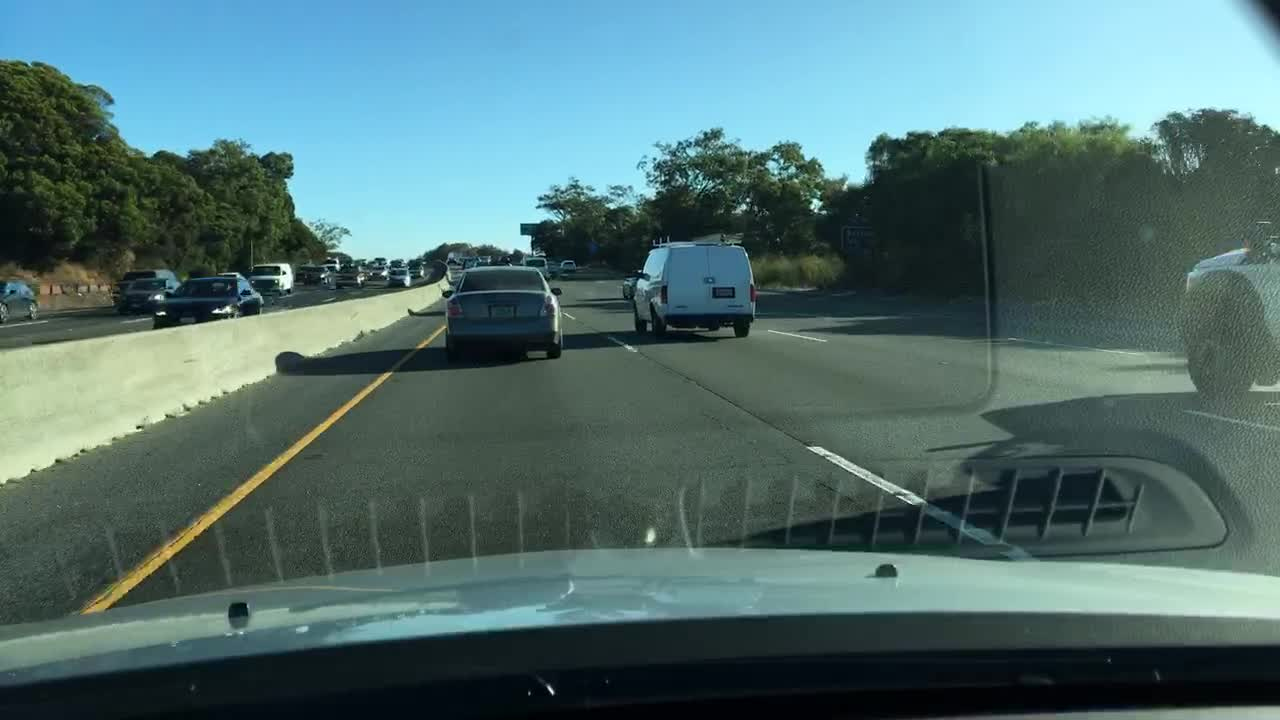car: (1179, 218, 1279, 411), (628, 232, 759, 340), (437, 264, 566, 362), (151, 275, 266, 330), (110, 266, 179, 306), (118, 276, 174, 314), (0, 279, 42, 323), (248, 261, 295, 296), (331, 266, 367, 291), (521, 255, 552, 282), (302, 264, 334, 286), (294, 260, 321, 281), (620, 274, 639, 302), (386, 268, 412, 288), (319, 255, 343, 275), (214, 270, 247, 282), (367, 266, 390, 280), (407, 265, 427, 279), (490, 253, 511, 266), (559, 259, 578, 272), (460, 255, 473, 269), (390, 263, 412, 271), (477, 254, 492, 265), (412, 259, 428, 269), (388, 258, 404, 268), (372, 255, 387, 265), (455, 255, 467, 266), (445, 257, 459, 265), (473, 260, 487, 268), (353, 259, 363, 269), (361, 270, 370, 281), (359, 257, 369, 266), (343, 260, 354, 268)
traffic sign: (517, 222, 542, 236)
